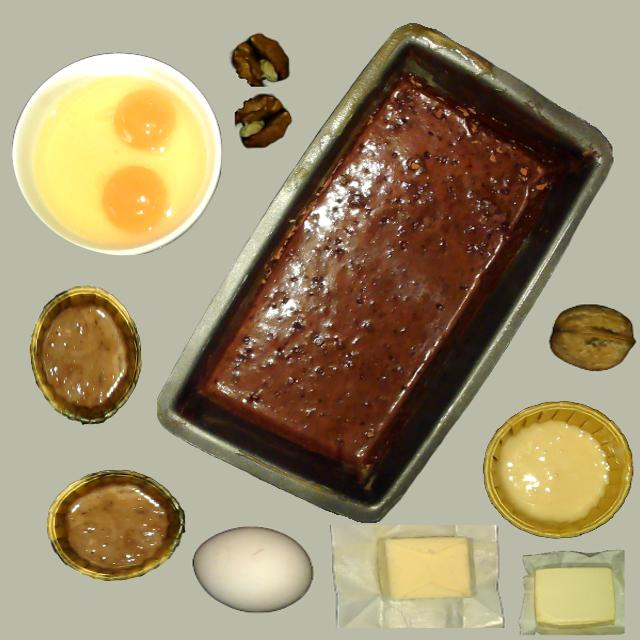Egg: (100, 165, 170, 232), (113, 89, 178, 152)
Walnut: (549, 305, 634, 372)
